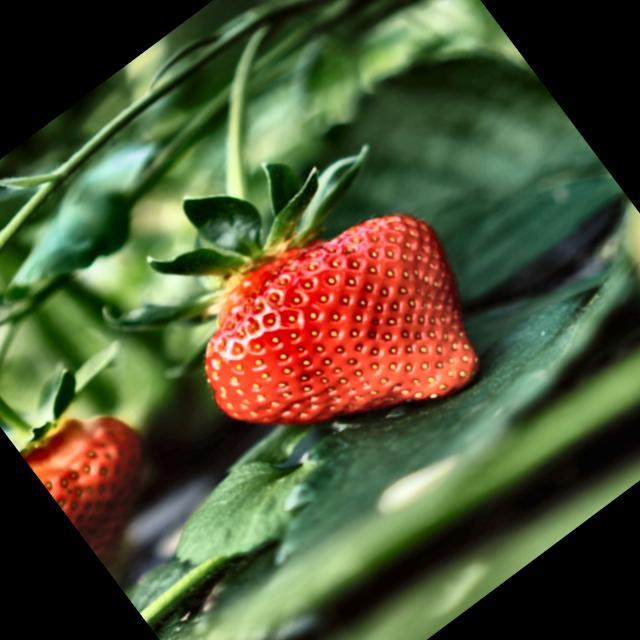strawberry: (205, 215, 478, 423), (25, 416, 141, 555)
